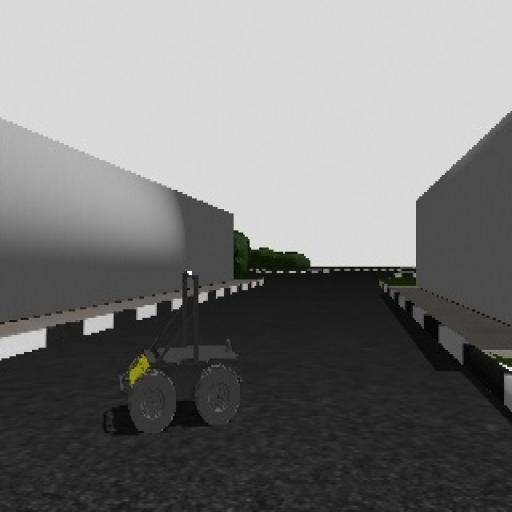huskya200: (108, 256, 254, 434)
